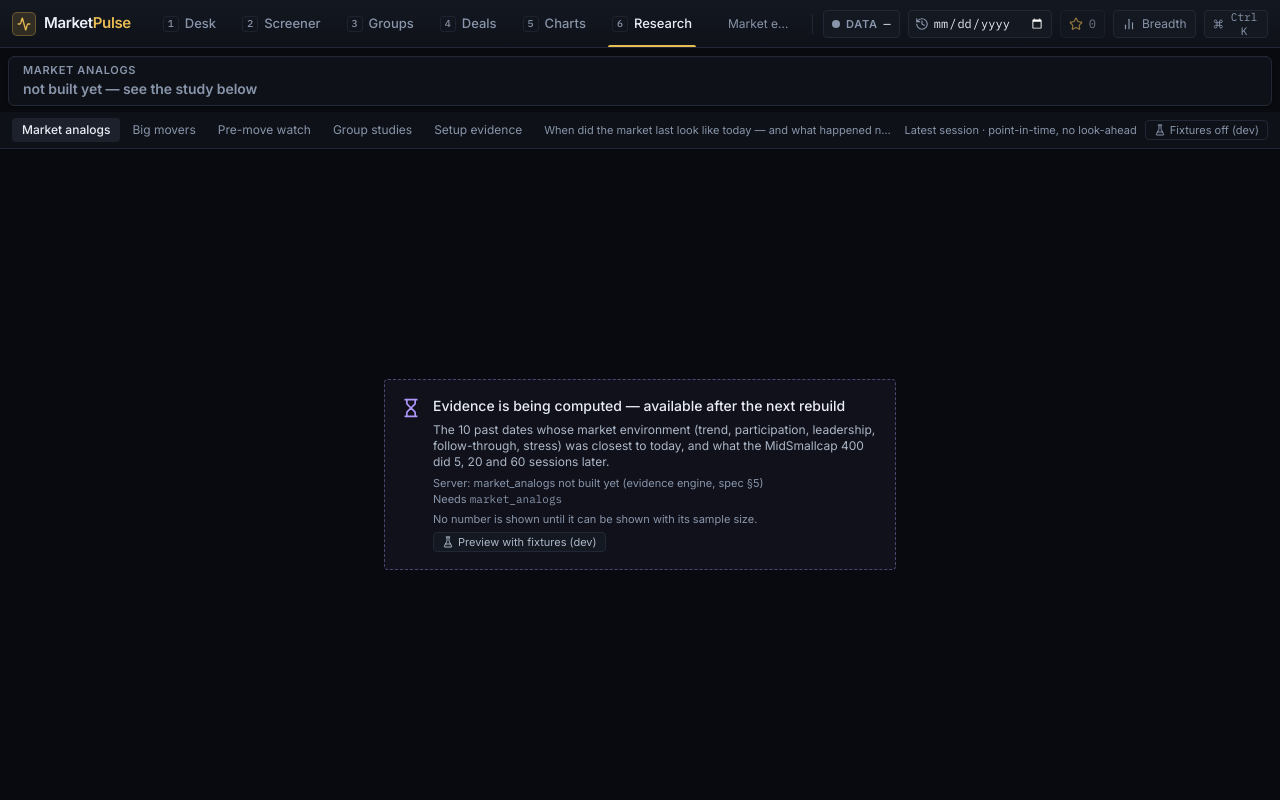
Research tab › shows an intentional "being computed" state when the evidence tables are not built
The width and height of the screenshot is (1280, 800).
Expected: the text "Evidence is being computed — available after the next rebuild" is shown, [433,396,879,416]
Expected: the text "market_analogs not built yet" is shown, [474,476,764,490]
Click the button "Preview with fixtures (dev)": x=519, y=542 [433,532,606,552]
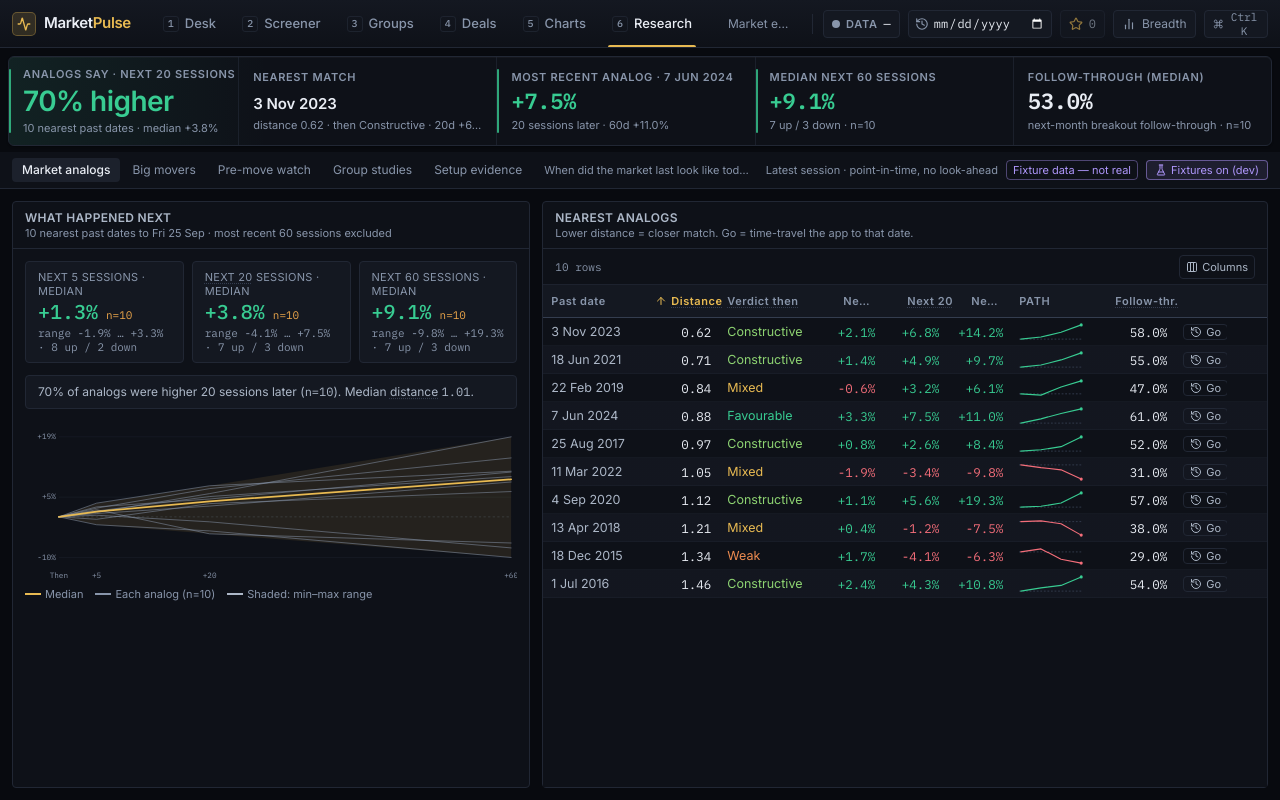
Now the text "Fixture data — not real" is shown, box [1006,160,1138,180]
Now the table named "Market analogs" is shown, box [543,285,1267,598]
